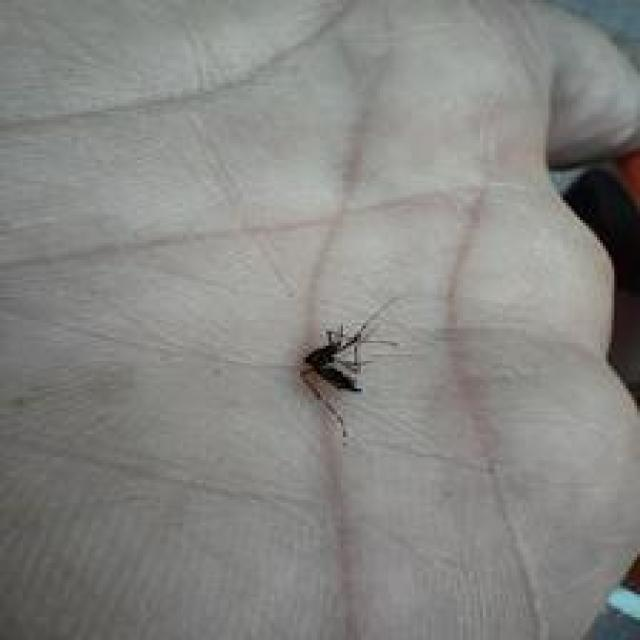Aedes albopictus: (297, 293, 403, 441)
